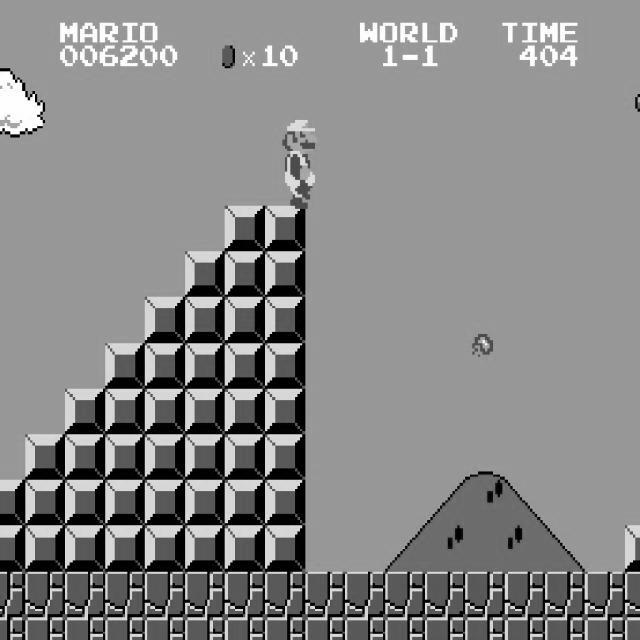17- undestructible_block: (24, 572, 66, 618), (64, 572, 106, 618), (104, 572, 146, 618), (144, 572, 186, 618), (184, 572, 226, 618), (224, 572, 266, 618), (264, 572, 306, 618), (304, 572, 346, 618), (344, 572, 386, 618), (384, 572, 426, 618), (424, 572, 466, 618), (464, 572, 506, 618), (504, 572, 546, 618), (544, 572, 586, 618), (584, 572, 626, 618), (0, 571, 25, 617), (24, 617, 66, 640), (64, 617, 106, 640), (104, 617, 146, 640), (144, 617, 186, 640), (184, 617, 226, 640), (224, 617, 266, 640), (264, 617, 306, 640), (304, 617, 346, 640), (344, 617, 386, 640), (384, 617, 426, 640), (424, 617, 466, 640), (464, 617, 506, 640), (504, 617, 546, 640), (544, 617, 586, 640), (584, 617, 626, 640), (625, 572, 640, 618), (0, 617, 25, 639), (625, 617, 640, 640)
4- fire_mario: (277, 114, 320, 208)
5- fireball: (472, 332, 492, 358)
7- goal_pole: (625, 68, 640, 114), (625, 114, 640, 160), (625, 160, 640, 206), (625, 252, 640, 298), (625, 297, 640, 343), (625, 388, 640, 434), (625, 434, 640, 480), (625, 480, 640, 526), (625, 206, 640, 251), (625, 343, 640, 388)
9- hard_block: (24, 434, 66, 480), (24, 480, 66, 526), (24, 526, 66, 572), (64, 388, 106, 434), (64, 434, 106, 480), (64, 480, 106, 526), (64, 526, 106, 572), (104, 388, 146, 434), (104, 434, 146, 480), (104, 480, 146, 526), (104, 526, 146, 572), (144, 297, 186, 343), (144, 388, 186, 434), (144, 434, 186, 480), (144, 480, 186, 526), (144, 526, 186, 572), (184, 252, 226, 298), (184, 297, 226, 343), (184, 388, 226, 434), (184, 434, 226, 480), (184, 480, 226, 526), (184, 526, 226, 572), (224, 252, 266, 298), (224, 297, 266, 343), (224, 388, 266, 434), (224, 434, 266, 480), (224, 480, 266, 526), (224, 526, 266, 572), (264, 252, 306, 298), (264, 297, 306, 343), (264, 388, 306, 434), (264, 434, 306, 480), (264, 480, 306, 526), (264, 526, 306, 572), (104, 343, 146, 388), (144, 343, 186, 388), (184, 343, 226, 388), (224, 206, 266, 251), (224, 343, 266, 388), (264, 206, 306, 251), (264, 343, 306, 388), (0, 525, 25, 571), (0, 480, 25, 525), (625, 526, 640, 572)
